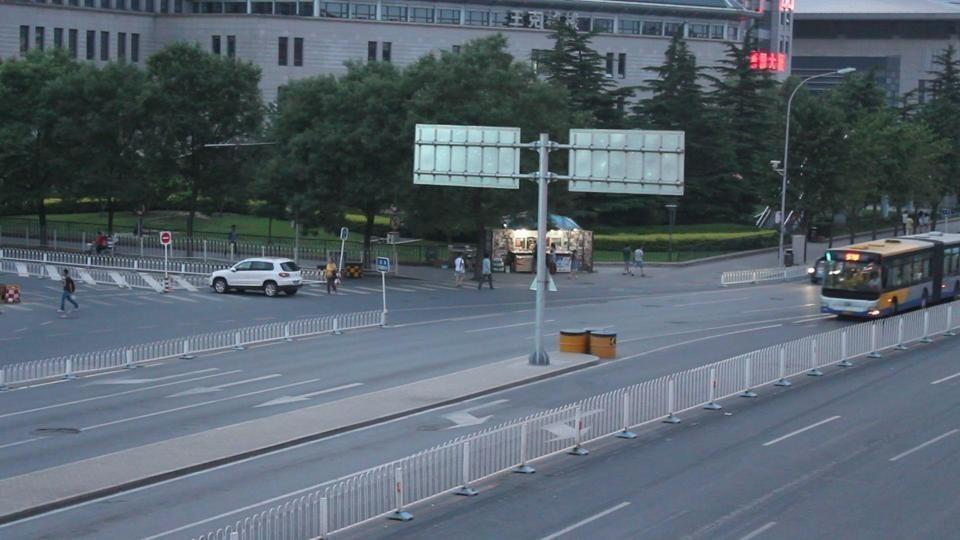car: (210, 258, 304, 297)
